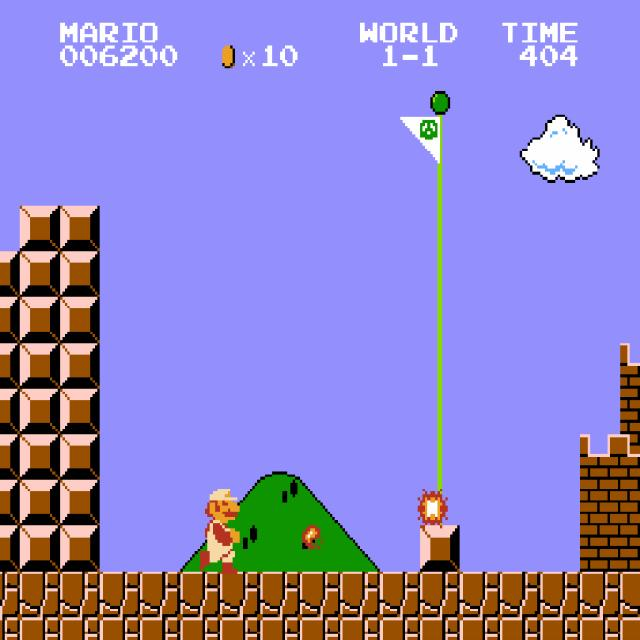fire_mario: (197, 480, 240, 574)
fireball: (302, 522, 322, 548)
goal_pole: (420, 114, 460, 160), (420, 160, 460, 206), (420, 297, 460, 343), (420, 434, 460, 480), (420, 480, 460, 526), (420, 69, 460, 114), (420, 206, 460, 251), (420, 252, 460, 297), (420, 343, 460, 388), (420, 389, 460, 434)
hard_block: (20, 297, 60, 343), (20, 434, 60, 480), (20, 480, 60, 526), (60, 297, 100, 343), (60, 434, 100, 480), (60, 480, 100, 526), (20, 206, 60, 251), (20, 252, 60, 297), (20, 343, 60, 388), (20, 389, 60, 434), (20, 526, 60, 571), (60, 206, 100, 251), (60, 252, 100, 297), (60, 343, 100, 388), (60, 389, 100, 434), (60, 526, 100, 571), (420, 526, 460, 571), (0, 297, 20, 343), (0, 434, 20, 480), (0, 480, 20, 526), (0, 252, 20, 297), (0, 343, 20, 388), (0, 389, 20, 434), (0, 526, 20, 571)
undestructible_block: (20, 572, 60, 617), (60, 572, 100, 617), (100, 572, 140, 617), (140, 572, 180, 617), (180, 572, 220, 617), (220, 572, 260, 617), (260, 572, 300, 617), (300, 572, 340, 617), (340, 572, 380, 617), (380, 572, 420, 617), (420, 572, 460, 617), (460, 572, 500, 617), (500, 572, 540, 617), (540, 572, 580, 617), (580, 572, 620, 617), (20, 617, 60, 640), (60, 617, 100, 640), (100, 617, 140, 640), (140, 617, 180, 640), (180, 617, 220, 640), (220, 617, 260, 640), (260, 617, 300, 640), (300, 617, 340, 640), (340, 617, 380, 640), (380, 617, 420, 640), (420, 617, 460, 640), (460, 617, 500, 640), (500, 617, 540, 640), (540, 617, 580, 640), (580, 617, 620, 640), (0, 572, 20, 617), (620, 572, 640, 617), (0, 617, 20, 640), (620, 617, 640, 640)
